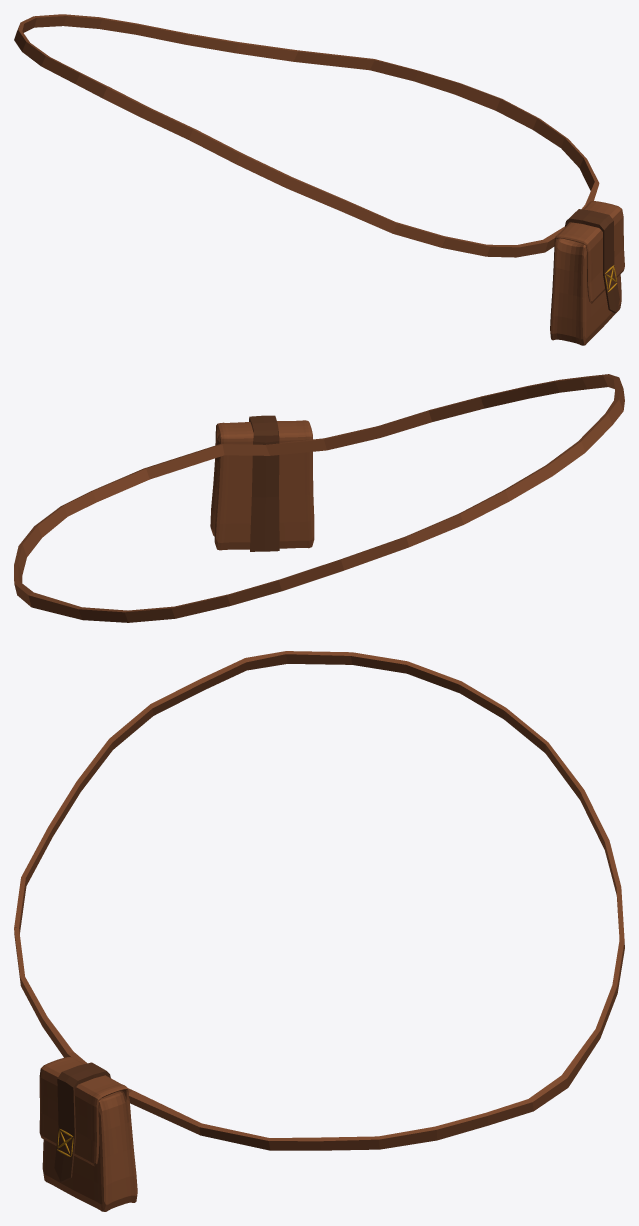
Rendered from Hauptchara_tasche.fbx.
3 views of the same model, one above another, from view 1: azimuth 30°, elevation 25°; view 2: azimuth 150°, elevation 25°; view 3: azimuth 270°, elevation 25° (orthographic). The views are drawn at different scales.
Visible parts, largest first — view 1: Tasche; view 2: Tasche; view 3: Tasche.
Part boxes in pixels (x1,y1,x2,y2): Tasche: (14, 14, 624, 345); Tasche: (14, 374, 624, 622); Tasche: (14, 651, 624, 1211).
Bounding box in the file's own units: 113 × 61.16 × 106.
